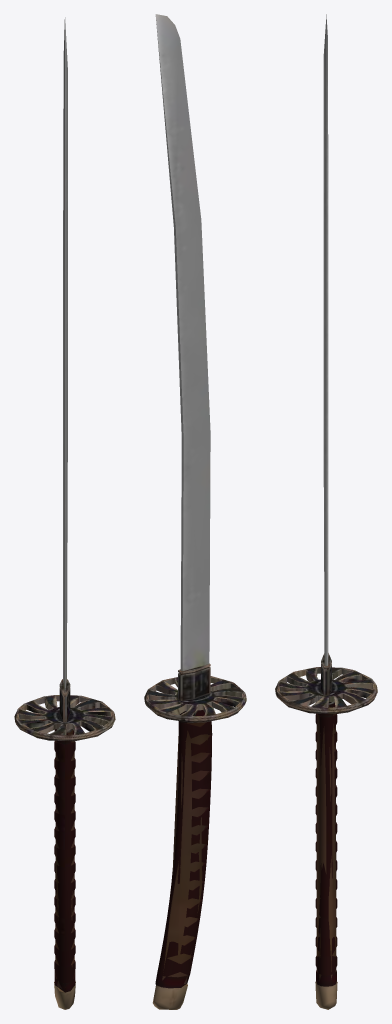
The model's file is design-antique-katana-01.glb.
3 renders of one model, left to right at view 1: azimuth 90°, elevation 25°; view 2: azimuth 210°, elevation 25°; view 3: azimuth 270°, elevation 25°, orthographic.
Visible parts, largest first — view 1: antique_katana_01; view 2: antique_katana_01; view 3: antique_katana_01.
Boxes of the visible parts, x1=… form: antique_katana_01: x1=14, y1=17, x2=115, y2=1009; antique_katana_01: x1=144, y1=14, x2=246, y2=1009; antique_katana_01: x1=275, y1=14, x2=377, y2=1009.
Bounding box in the file's own units: 0.0934 × 1 × 0.0934.
1 material, 1 textured.
